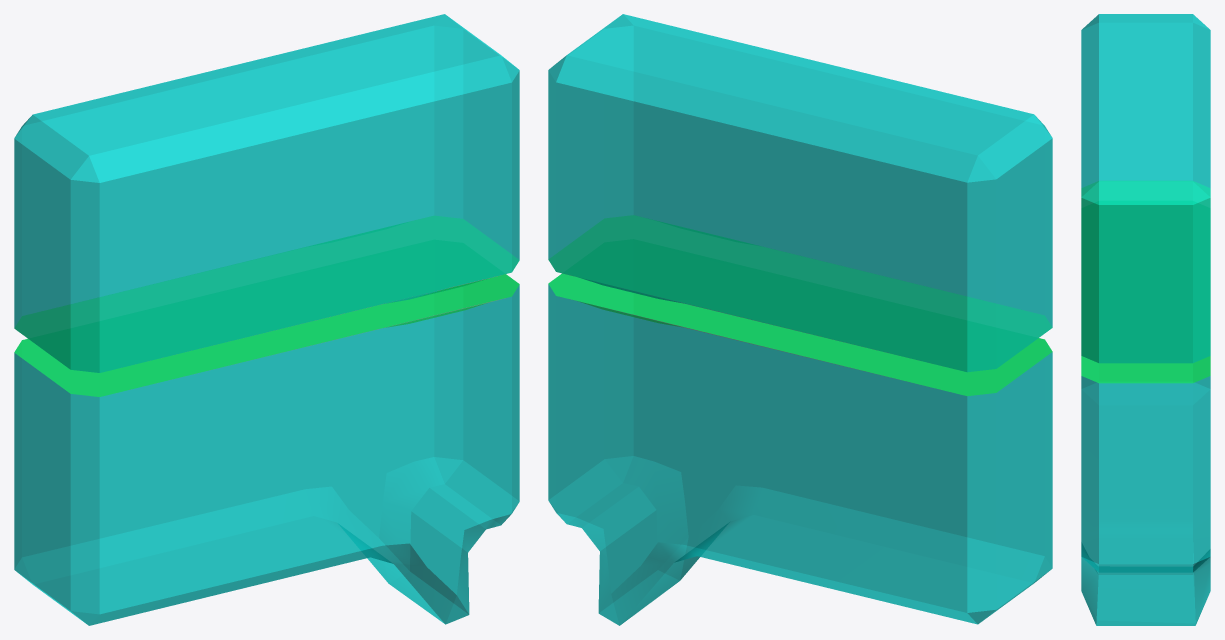
Rendered from SpeechBubble - Sliced.fbx.
3 renders of one model, left to right at view 1: azimuth 30°, elevation 25°; view 2: azimuth 150°, elevation 25°; view 3: azimuth 270°, elevation 25°, orthographic. The views are drawn at different scales.
Parts seen in each view (by area): view 1: polySurface2, polySurface1; view 2: polySurface2, polySurface1; view 3: polySurface2, polySurface1.
Part boxes in pixels (bbox=[...]): polySurface2: bbox=[14, 14, 519, 372]; polySurface1: bbox=[14, 274, 519, 625]; polySurface2: bbox=[548, 14, 1052, 372]; polySurface1: bbox=[548, 273, 1052, 625]; polySurface2: bbox=[1081, 14, 1210, 363]; polySurface1: bbox=[1081, 356, 1210, 625].
Bounding box in the file's own units: 10 × 11.86 × 3.
